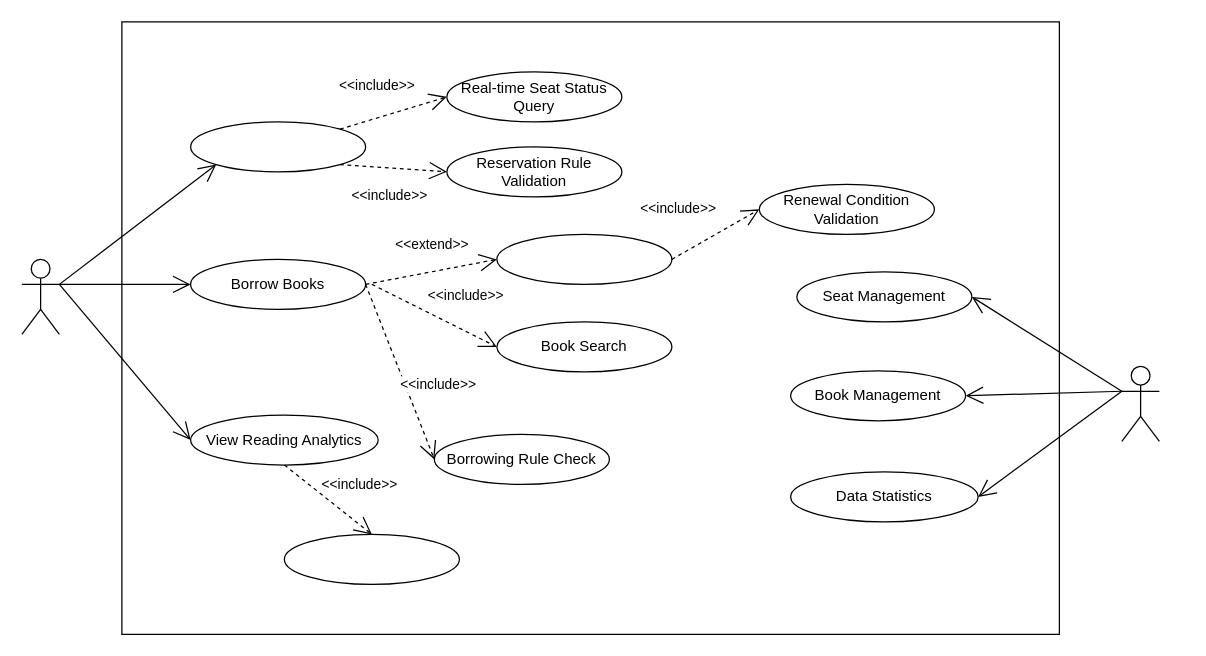
Some shapes in this 1206 by 656 pixel diagram are drawn without their labels. The centre of each missing label's shape, as x and y in pixels:
"Administrator" goes at [1140,403].
"Reading Data Visualization" goes at [371,558].
"Renew Books" goes at [584,258].
"Reserve Study Space" goes at [277,146].
"User" goes at [40,296].
